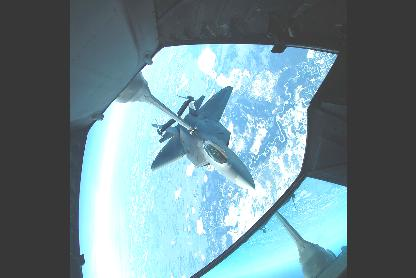F18: (150, 87, 254, 191)
